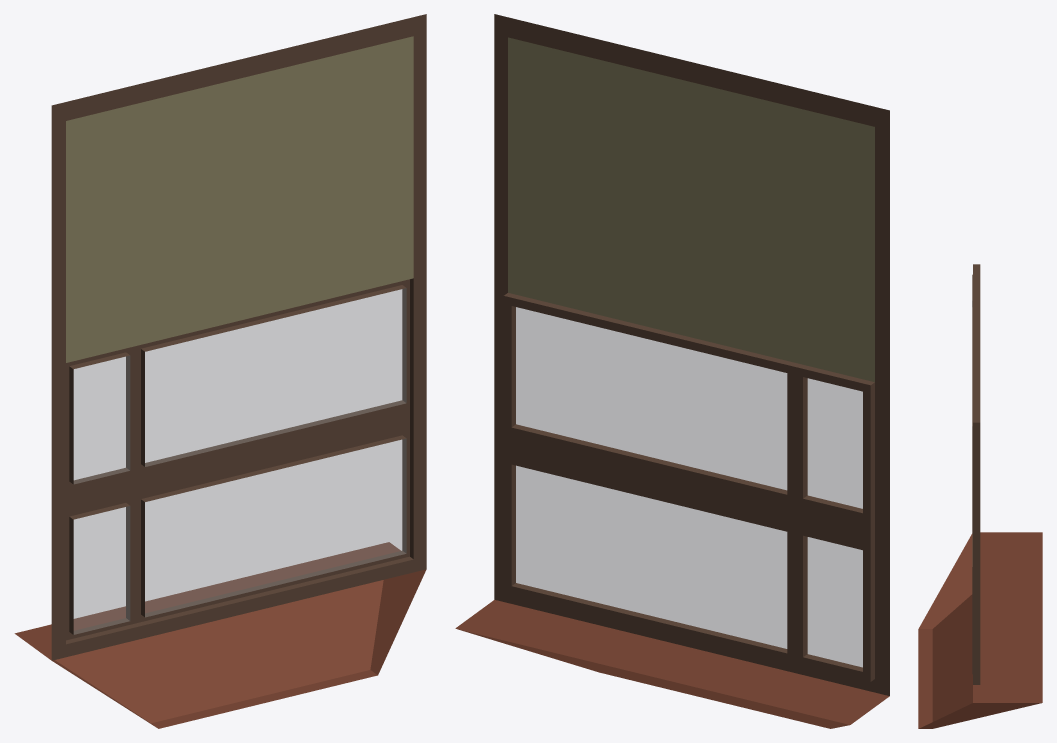
File: SM_Corner.fbx
The picture shows the model from 3 angles, left to right: view 1: azimuth 30°, elevation 25°; view 2: azimuth 150°, elevation 25°; view 3: azimuth 270°, elevation 25°; orthographic projection. The views are drawn at different scales.
Visible parts, largest first — view 1: Face_06; view 2: Face_06; view 3: Face_06.
Boxes of the visible parts, x1,y1,x2,y2 form: Face_06: [14, 14, 426, 728]; Face_06: [455, 14, 889, 728]; Face_06: [918, 264, 1042, 728].
Size of the model in its own units: 121 by 192 by 37.32.
